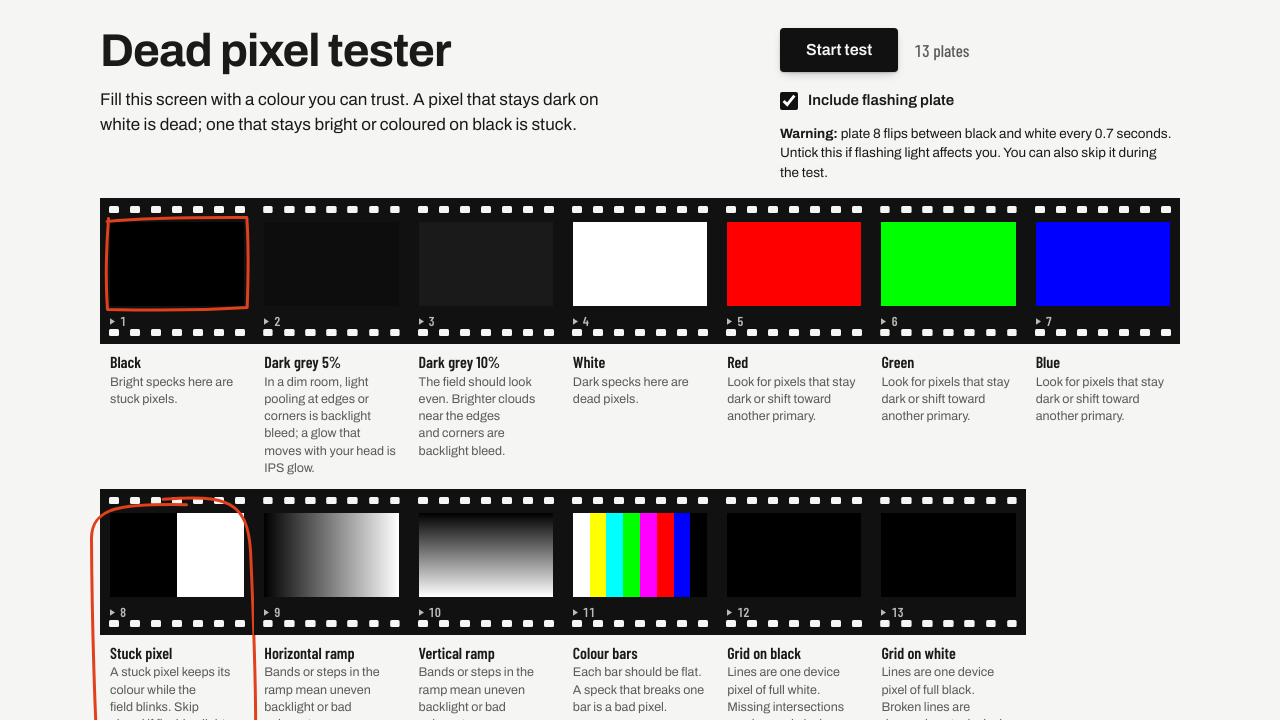
Scenario: keyboard › leaves full screen on the first Esc and stops on the second
This screenshot has width=1280, height=720.
Step 1. Click the button "Start test" → point(839, 50), box [780,28,898,72]
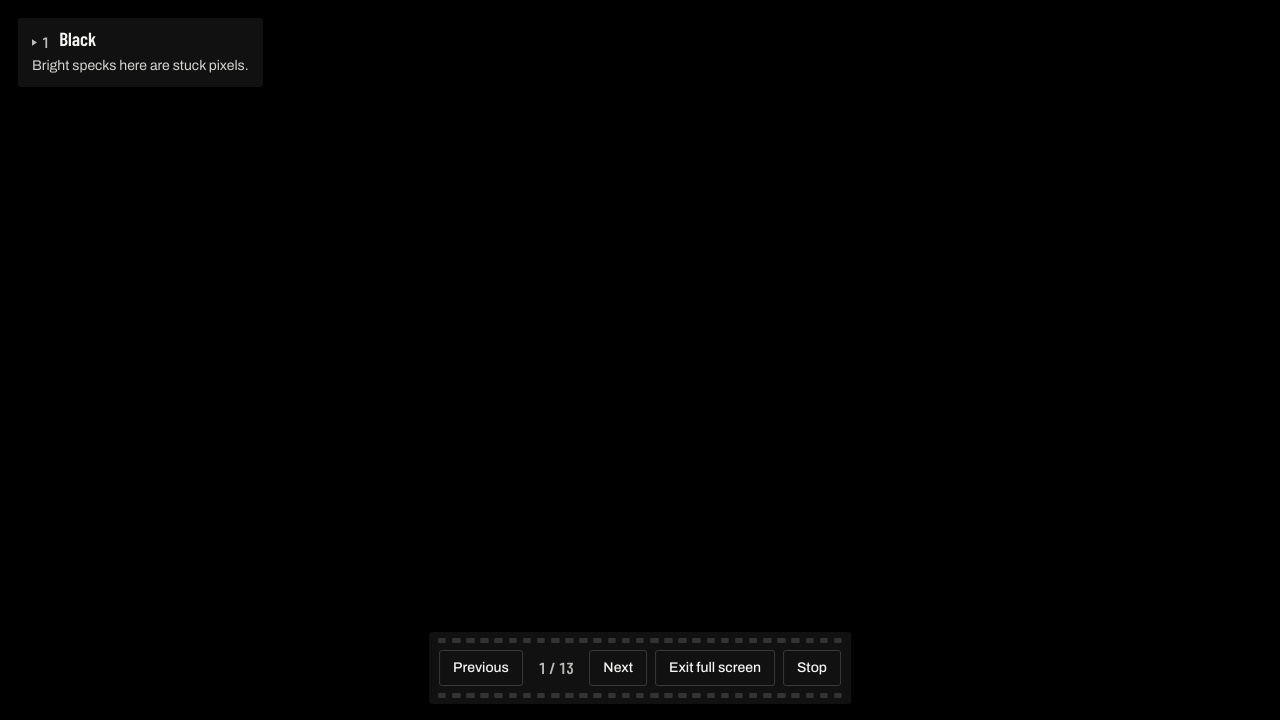
Step 2. Press Escape
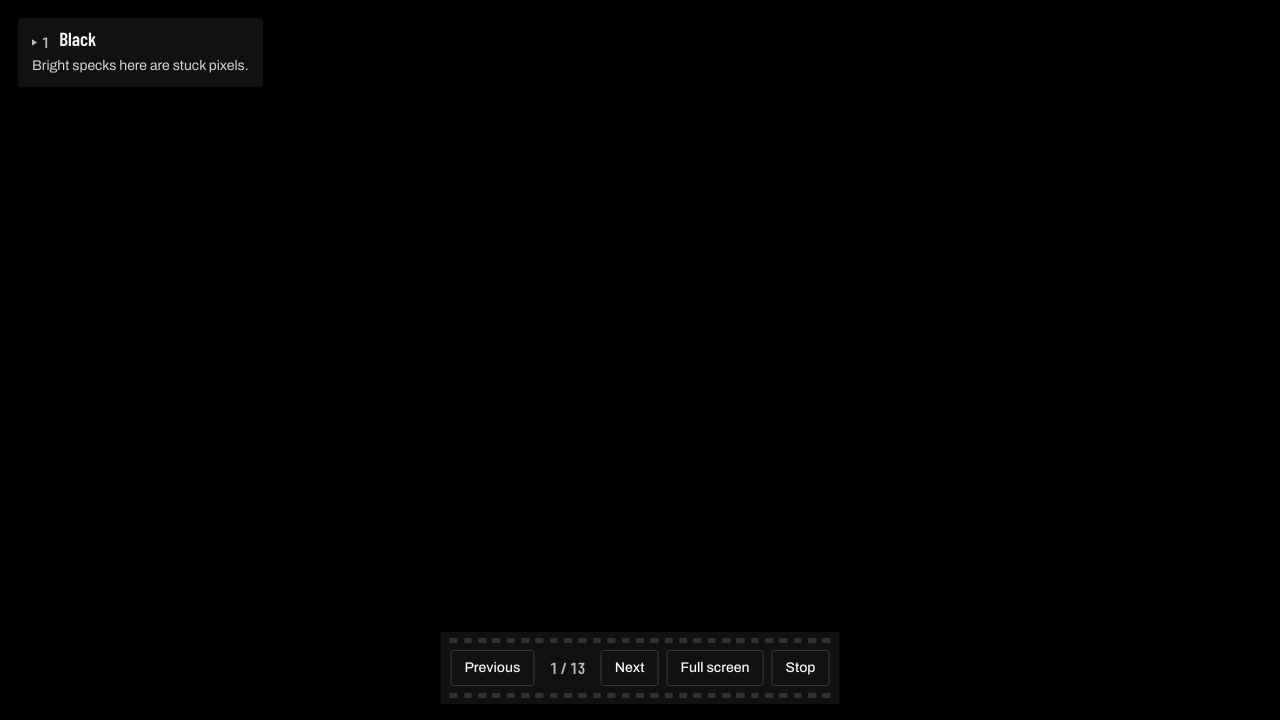
expect the element with class "stage" is shown: met
Step 3. Press Escape
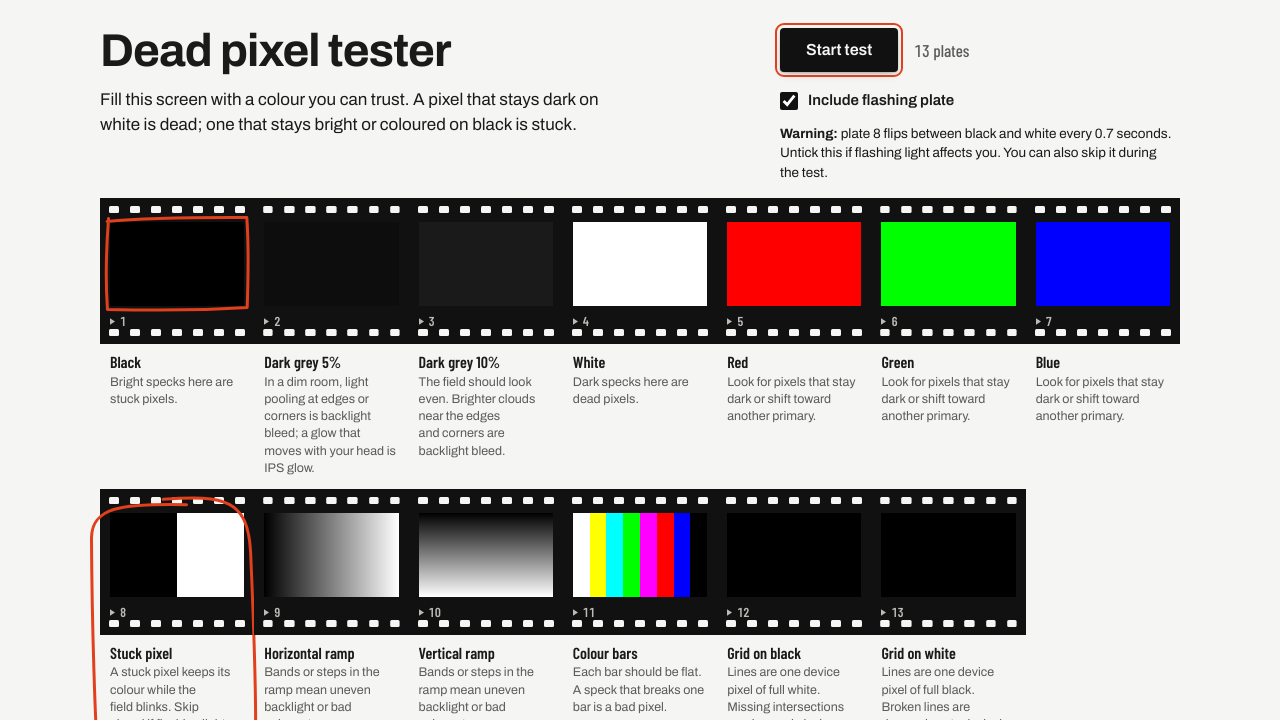
expect the element with class "stage" is gone: met
